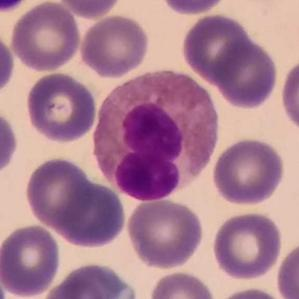Basophil: (91, 60, 221, 203)
RBC: (124, 196, 206, 270), (23, 70, 99, 144), (22, 154, 94, 231), (8, 0, 83, 73), (211, 135, 287, 207), (210, 209, 284, 282), (53, 178, 128, 250), (179, 12, 253, 84), (211, 35, 280, 111), (78, 12, 152, 79), (0, 222, 63, 298), (45, 260, 137, 299), (147, 269, 217, 299), (277, 54, 299, 136), (274, 238, 299, 299), (0, 107, 20, 179), (56, 0, 125, 19), (156, 0, 230, 17), (0, 29, 17, 97), (213, 285, 289, 299), (0, 0, 31, 15)
